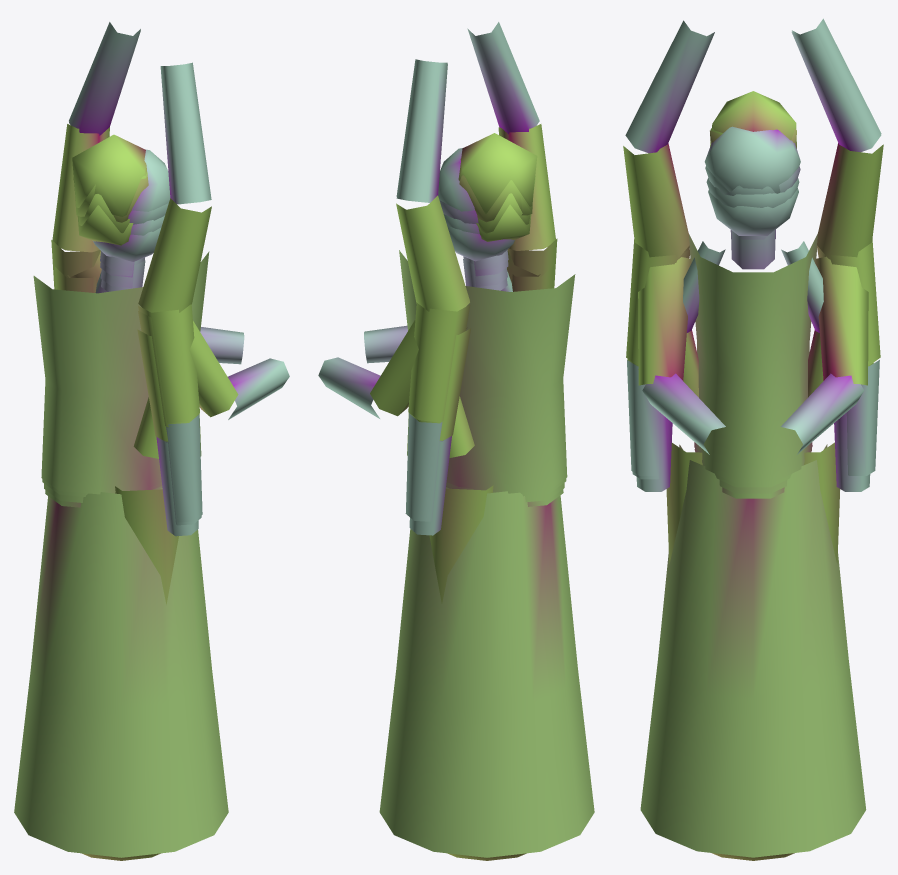
The model's file is small.glb.
3 renders of one model, left to right at view 1: azimuth 30°, elevation 25°; view 2: azimuth 150°, elevation 25°; view 3: azimuth 270°, elevation 25°, orthographic. The views are drawn at different scales.
Visible parts, largest first — view 1: crowd4, crowd0, crowd1, crowd3, crowd2, crowd5; view 2: crowd4, crowd0, crowd2, crowd1, crowd3, crowd5; view 3: crowd4, crowd0, crowd1, crowd3, crowd5, crowd2.
Part boxes in pixels (x1=…): crowd4: x1=14, y1=205, x2=228, y2=857; crowd0: x1=33, y1=134, x2=209, y2=604; crowd1: x1=42, y1=30, x2=211, y2=510; crowd3: x1=44, y1=179, x2=289, y2=502; crowd2: x1=42, y1=22, x2=201, y2=525; crowd5: x1=95, y1=272, x2=158, y2=458; crowd4: x1=379, y1=204, x2=594, y2=857; crowd0: x1=399, y1=133, x2=575, y2=603; crowd2: x1=396, y1=59, x2=566, y2=510; crowd1: x1=396, y1=22, x2=565, y2=508; crowd3: x1=318, y1=176, x2=564, y2=502; crowd5: x1=449, y1=271, x2=512, y2=457; crowd4: x1=636, y1=188, x2=873, y2=857; crowd0: x1=626, y1=91, x2=880, y2=564; crowd1: x1=623, y1=20, x2=883, y2=487; crowd3: x1=638, y1=178, x2=868, y2=493; crowd5: x1=683, y1=241, x2=823, y2=397; crowd2: x1=627, y1=18, x2=883, y2=486.
Size of the model in its own units: 0.6389 by 2.08 by 0.5769.
